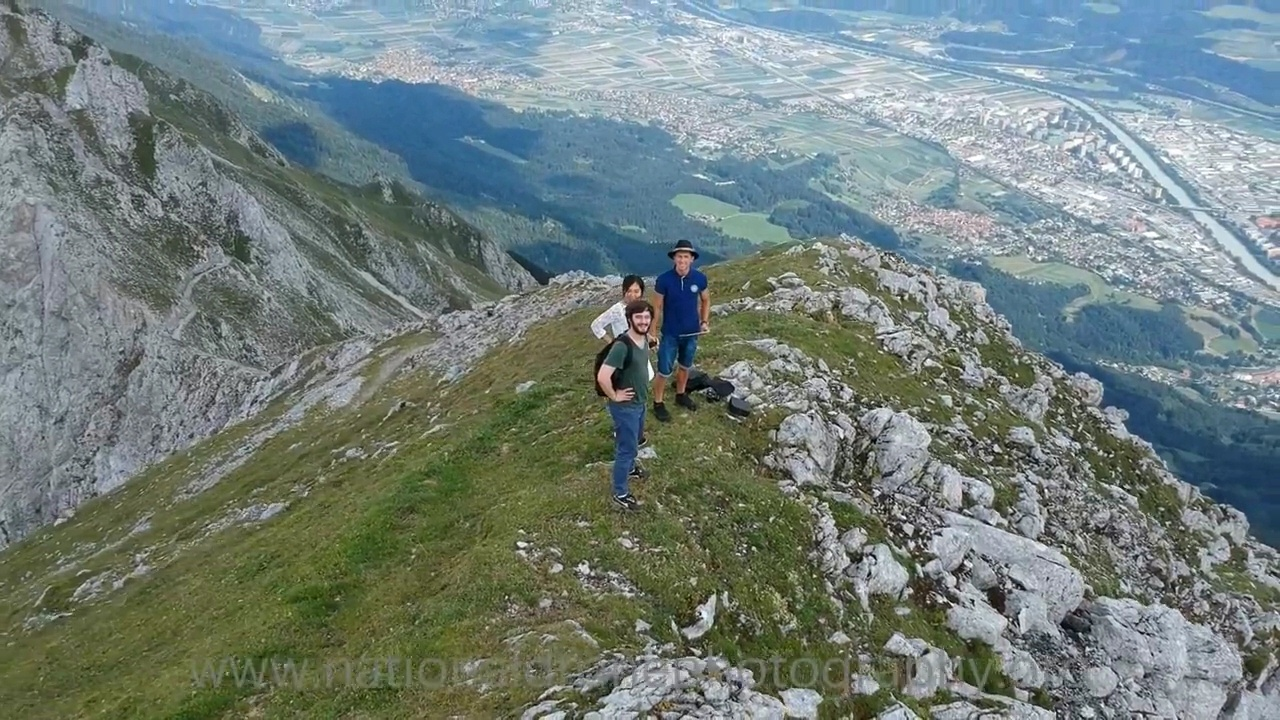insan: (597, 302, 652, 512), (653, 239, 712, 422), (593, 272, 654, 443)
